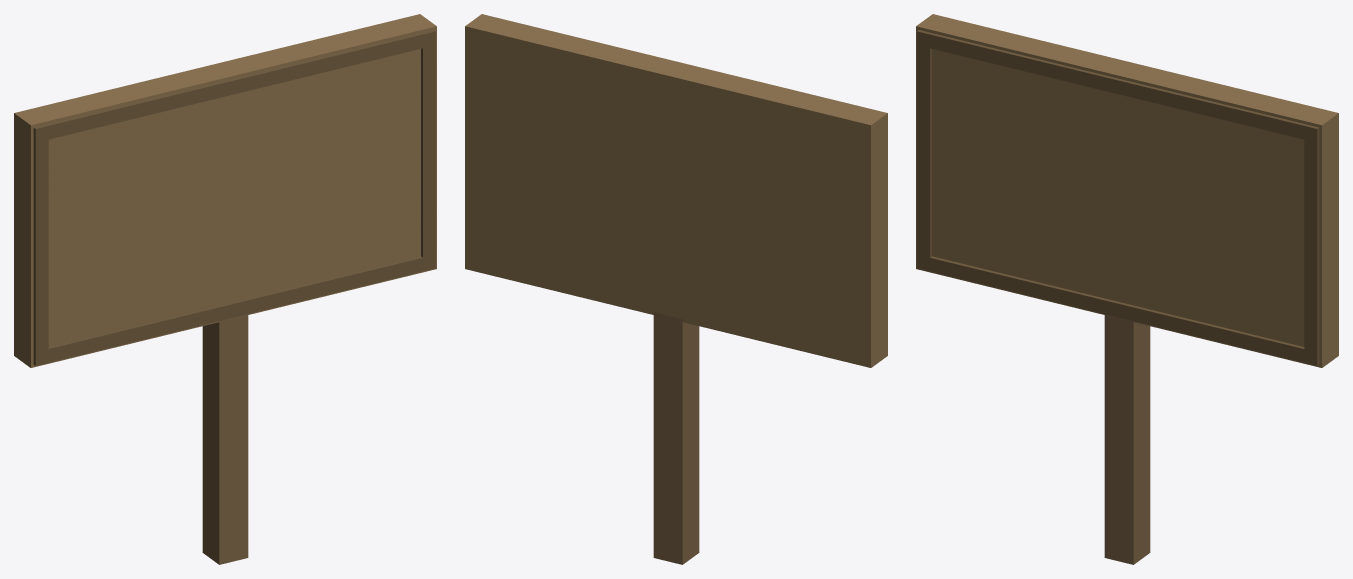
Rendered from sign_dark_oak_stand.gltf.
3 renders of one model, left to right at view 1: azimuth 30°, elevation 25°; view 2: azimuth 150°, elevation 25°; view 3: azimuth 330°, elevation 25°, orthographic.
Parts seen in each view (by area): view 1: sign_dark_oak_stand; view 2: sign_dark_oak_stand; view 3: sign_dark_oak_stand.
Boxes of the visible parts, x1,y1,x2,y2 form: sign_dark_oak_stand: (14,14,436,564); sign_dark_oak_stand: (465,14,887,564); sign_dark_oak_stand: (916,14,1338,564).
Size of the model in its own units: 0.875 by 1 by 0.07.
